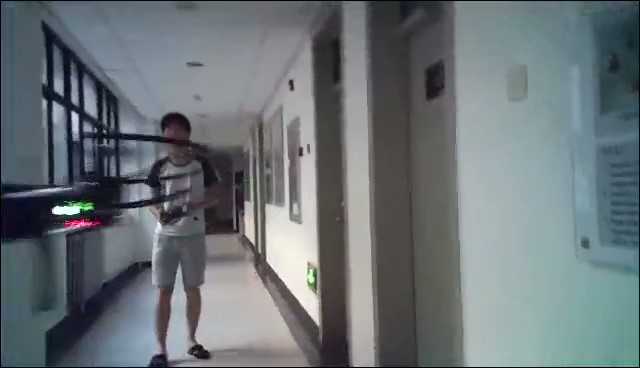drone: (2, 130, 212, 239)
person: (145, 110, 215, 368)
